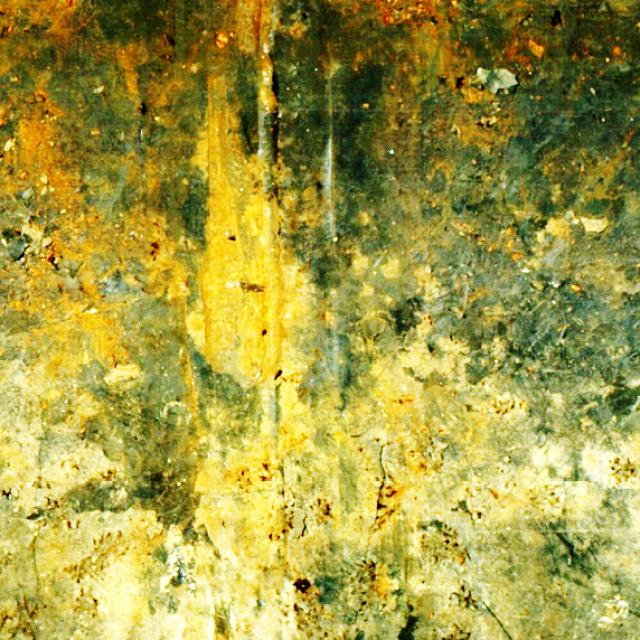Corrosion: (187, 117, 304, 379), (5, 222, 188, 364), (6, 90, 89, 214), (192, 420, 309, 492), (234, 3, 278, 109)
